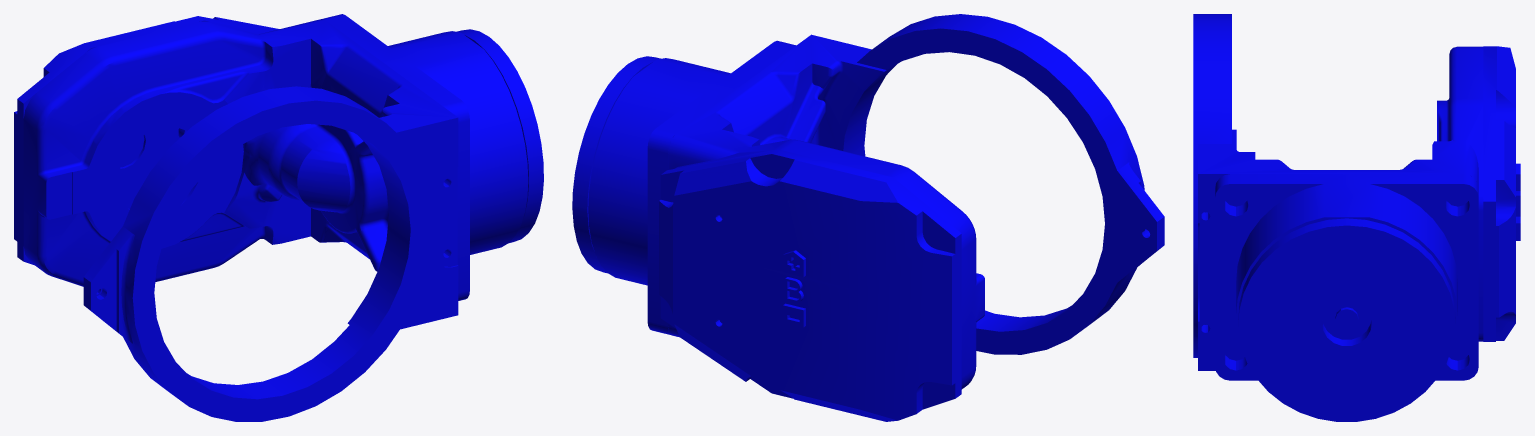
The model's file is es165d_B_AXIS.dae.
3 views of the same model, side by side, from view 1: azimuth 30°, elevation 25°; view 2: azimuth 150°, elevation 25°; view 3: azimuth 270°, elevation 25° (orthographic). The views are drawn at different scales.
Parts seen in each view (by area): view 1: node; view 2: node; view 3: node.
Boxes of the visible parts, <box> form: node: <box>14,14,543,421</box>; node: <box>572,14,1164,421</box>; node: <box>1193,14,1520,421</box>.
Size of the model in its own units: 0.3435 by 0.211 by 0.2218.
